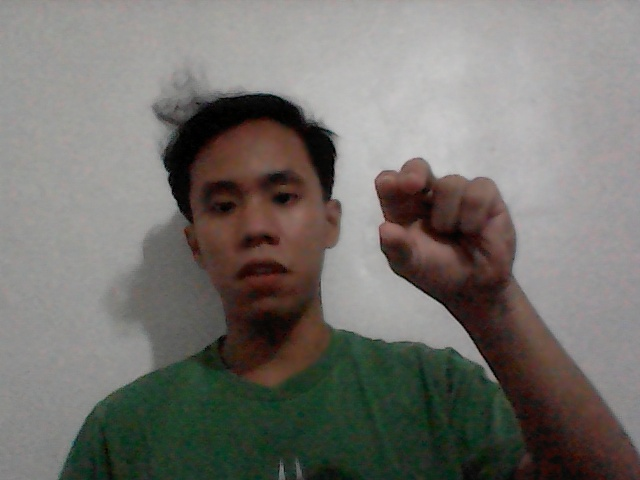No: (350, 129, 544, 344)
